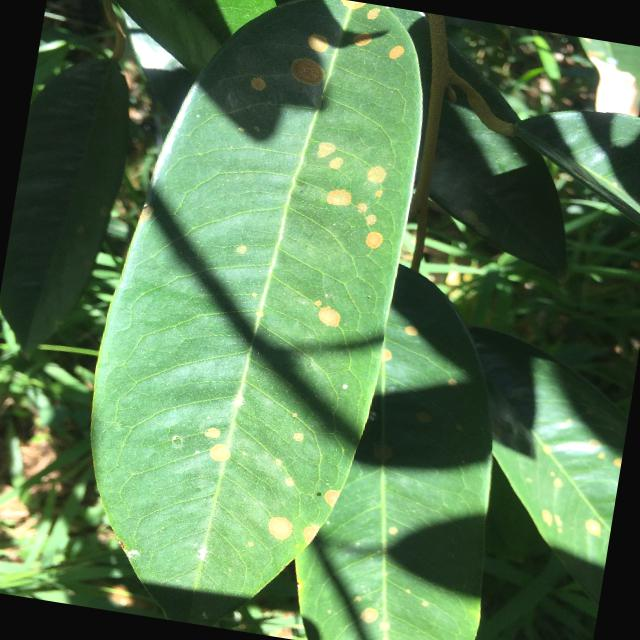Algal Leaf Spot: (50, 0, 451, 639)
